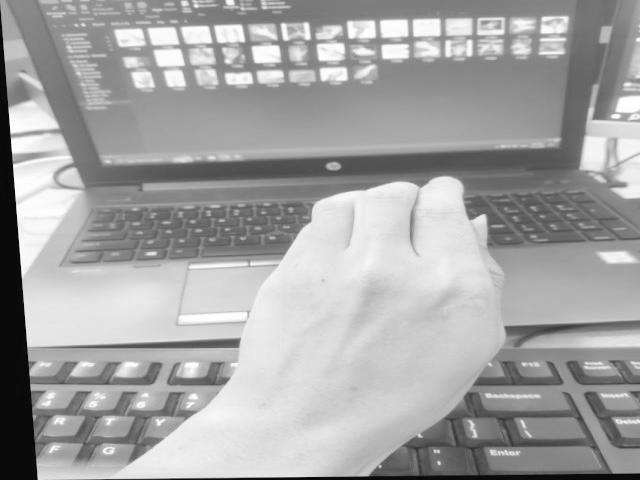not-gloved: (220, 175, 509, 461)
